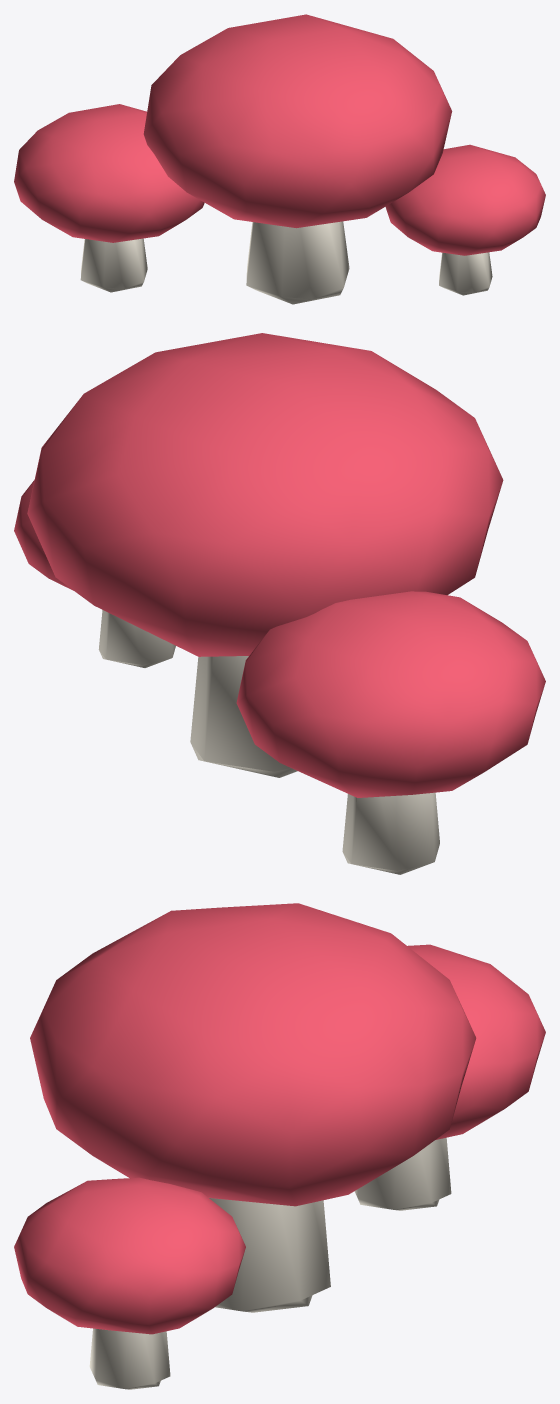
File: mushroom_spotted.glb
The picture shows the model from 3 angles, top to bottom: view 1: azimuth 30°, elevation 25°; view 2: azimuth 150°, elevation 25°; view 3: azimuth 270°, elevation 25°; orthographic projection. The views are drawn at different scales.
Parts seen in each view (by area): view 1: Cap_0, Cap_1, Cap_2, Stalk_0, Stalk_1, Stalk_2; view 2: Cap_0, Cap_1, Stalk_1, Stalk_0, Stalk_2, Cap_2; view 3: Cap_0, Cap_2, Cap_1, Stalk_0, Stalk_2, Stalk_1.
Part boxes in pixels (box(x1,y1,x2,y2)): Cap_0: box(143, 14, 452, 228); Cap_1: box(14, 104, 204, 242); Cap_2: box(385, 144, 545, 255); Stalk_0: box(246, 221, 349, 304); Stalk_1: box(80, 238, 147, 292); Stalk_2: box(439, 252, 492, 295); Cap_0: box(27, 333, 503, 656); Cap_1: box(236, 591, 545, 797); Stalk_1: box(342, 792, 439, 874); Stalk_0: box(190, 656, 297, 777); Stalk_2: box(98, 610, 175, 667); Cap_2: box(14, 480, 73, 590); Cap_0: box(30, 903, 476, 1206); Cap_2: box(14, 1177, 245, 1334); Cap_1: box(407, 944, 545, 1139); Stalk_0: box(209, 1198, 330, 1312); Stalk_2: box(89, 1328, 170, 1389); Stalk_1: box(354, 1137, 451, 1210).
Bounding box in the file's own units: 0.559 × 0.3173 × 0.4321.
